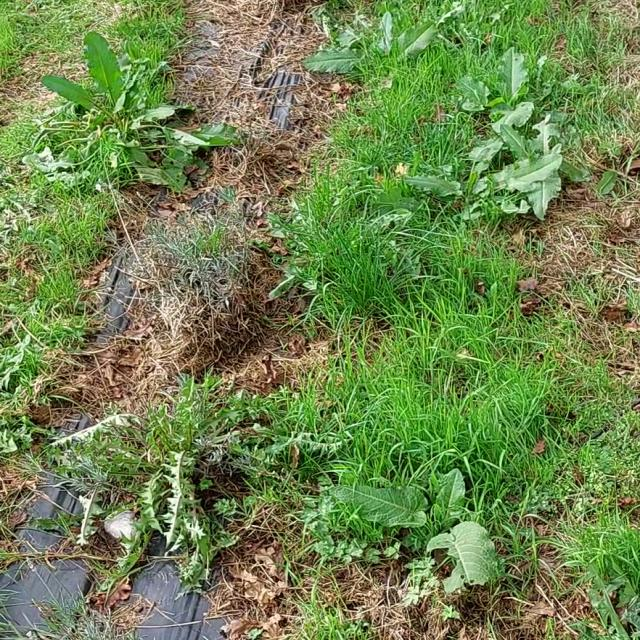organic waste: (21, 20, 289, 208), (329, 442, 554, 596), (480, 97, 628, 210), (408, 138, 564, 245), (278, 0, 479, 81), (423, 34, 568, 118)
